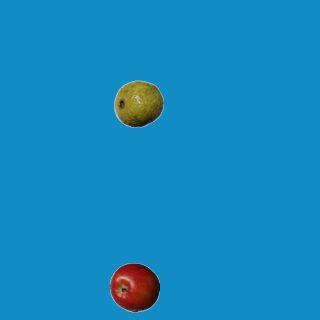Apple Braeburn: (109, 262, 159, 312)
Guava: (113, 78, 163, 128)
